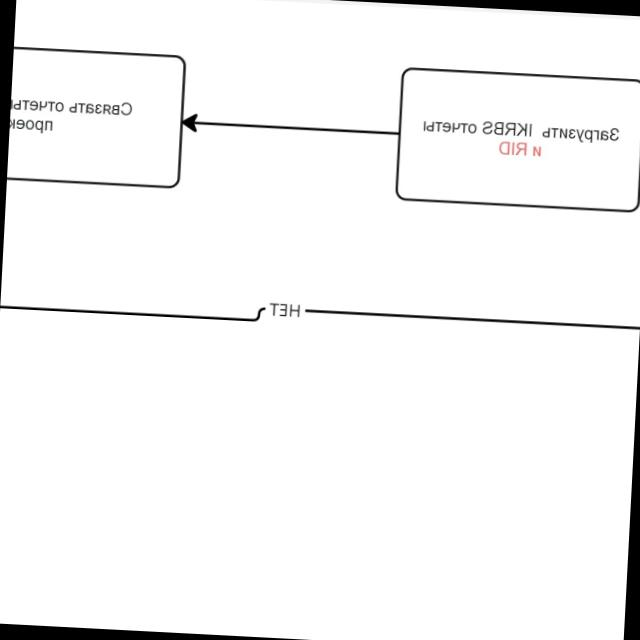arrow: (181, 107, 398, 145)
rectangle: (393, 65, 640, 212)
text_region: (268, 301, 302, 320)
